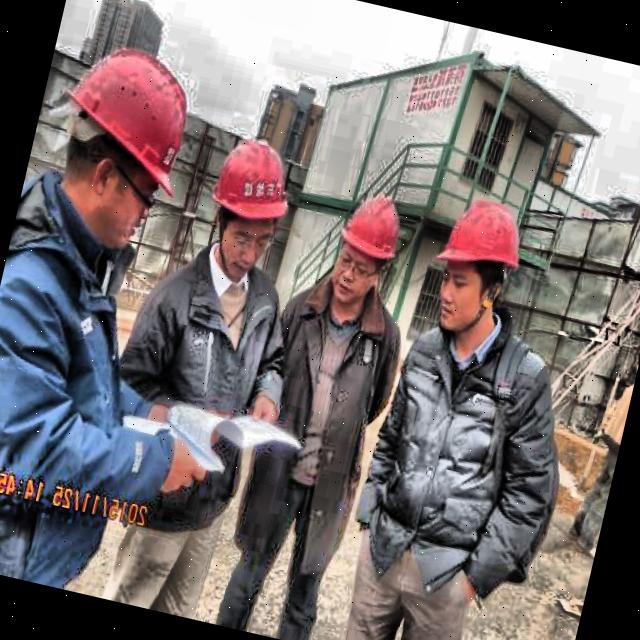helmet: (36, 27, 218, 268), (194, 127, 304, 286), (425, 188, 535, 344), (319, 178, 411, 322)
